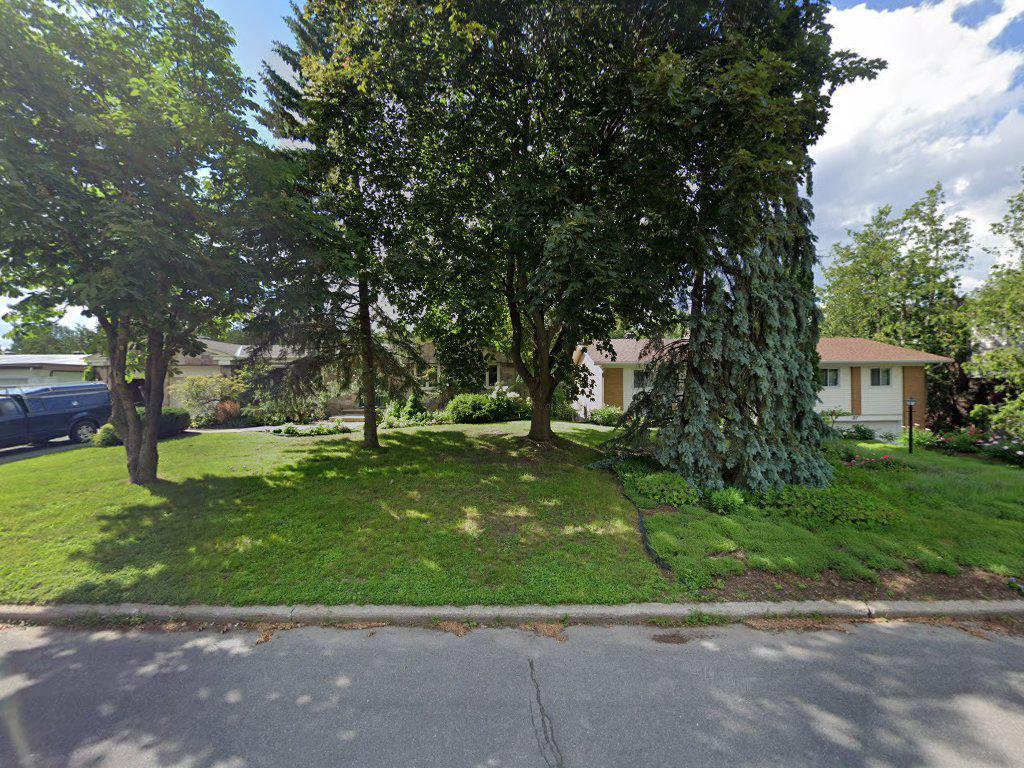trunk: (105, 321, 166, 491), (510, 323, 566, 457)
